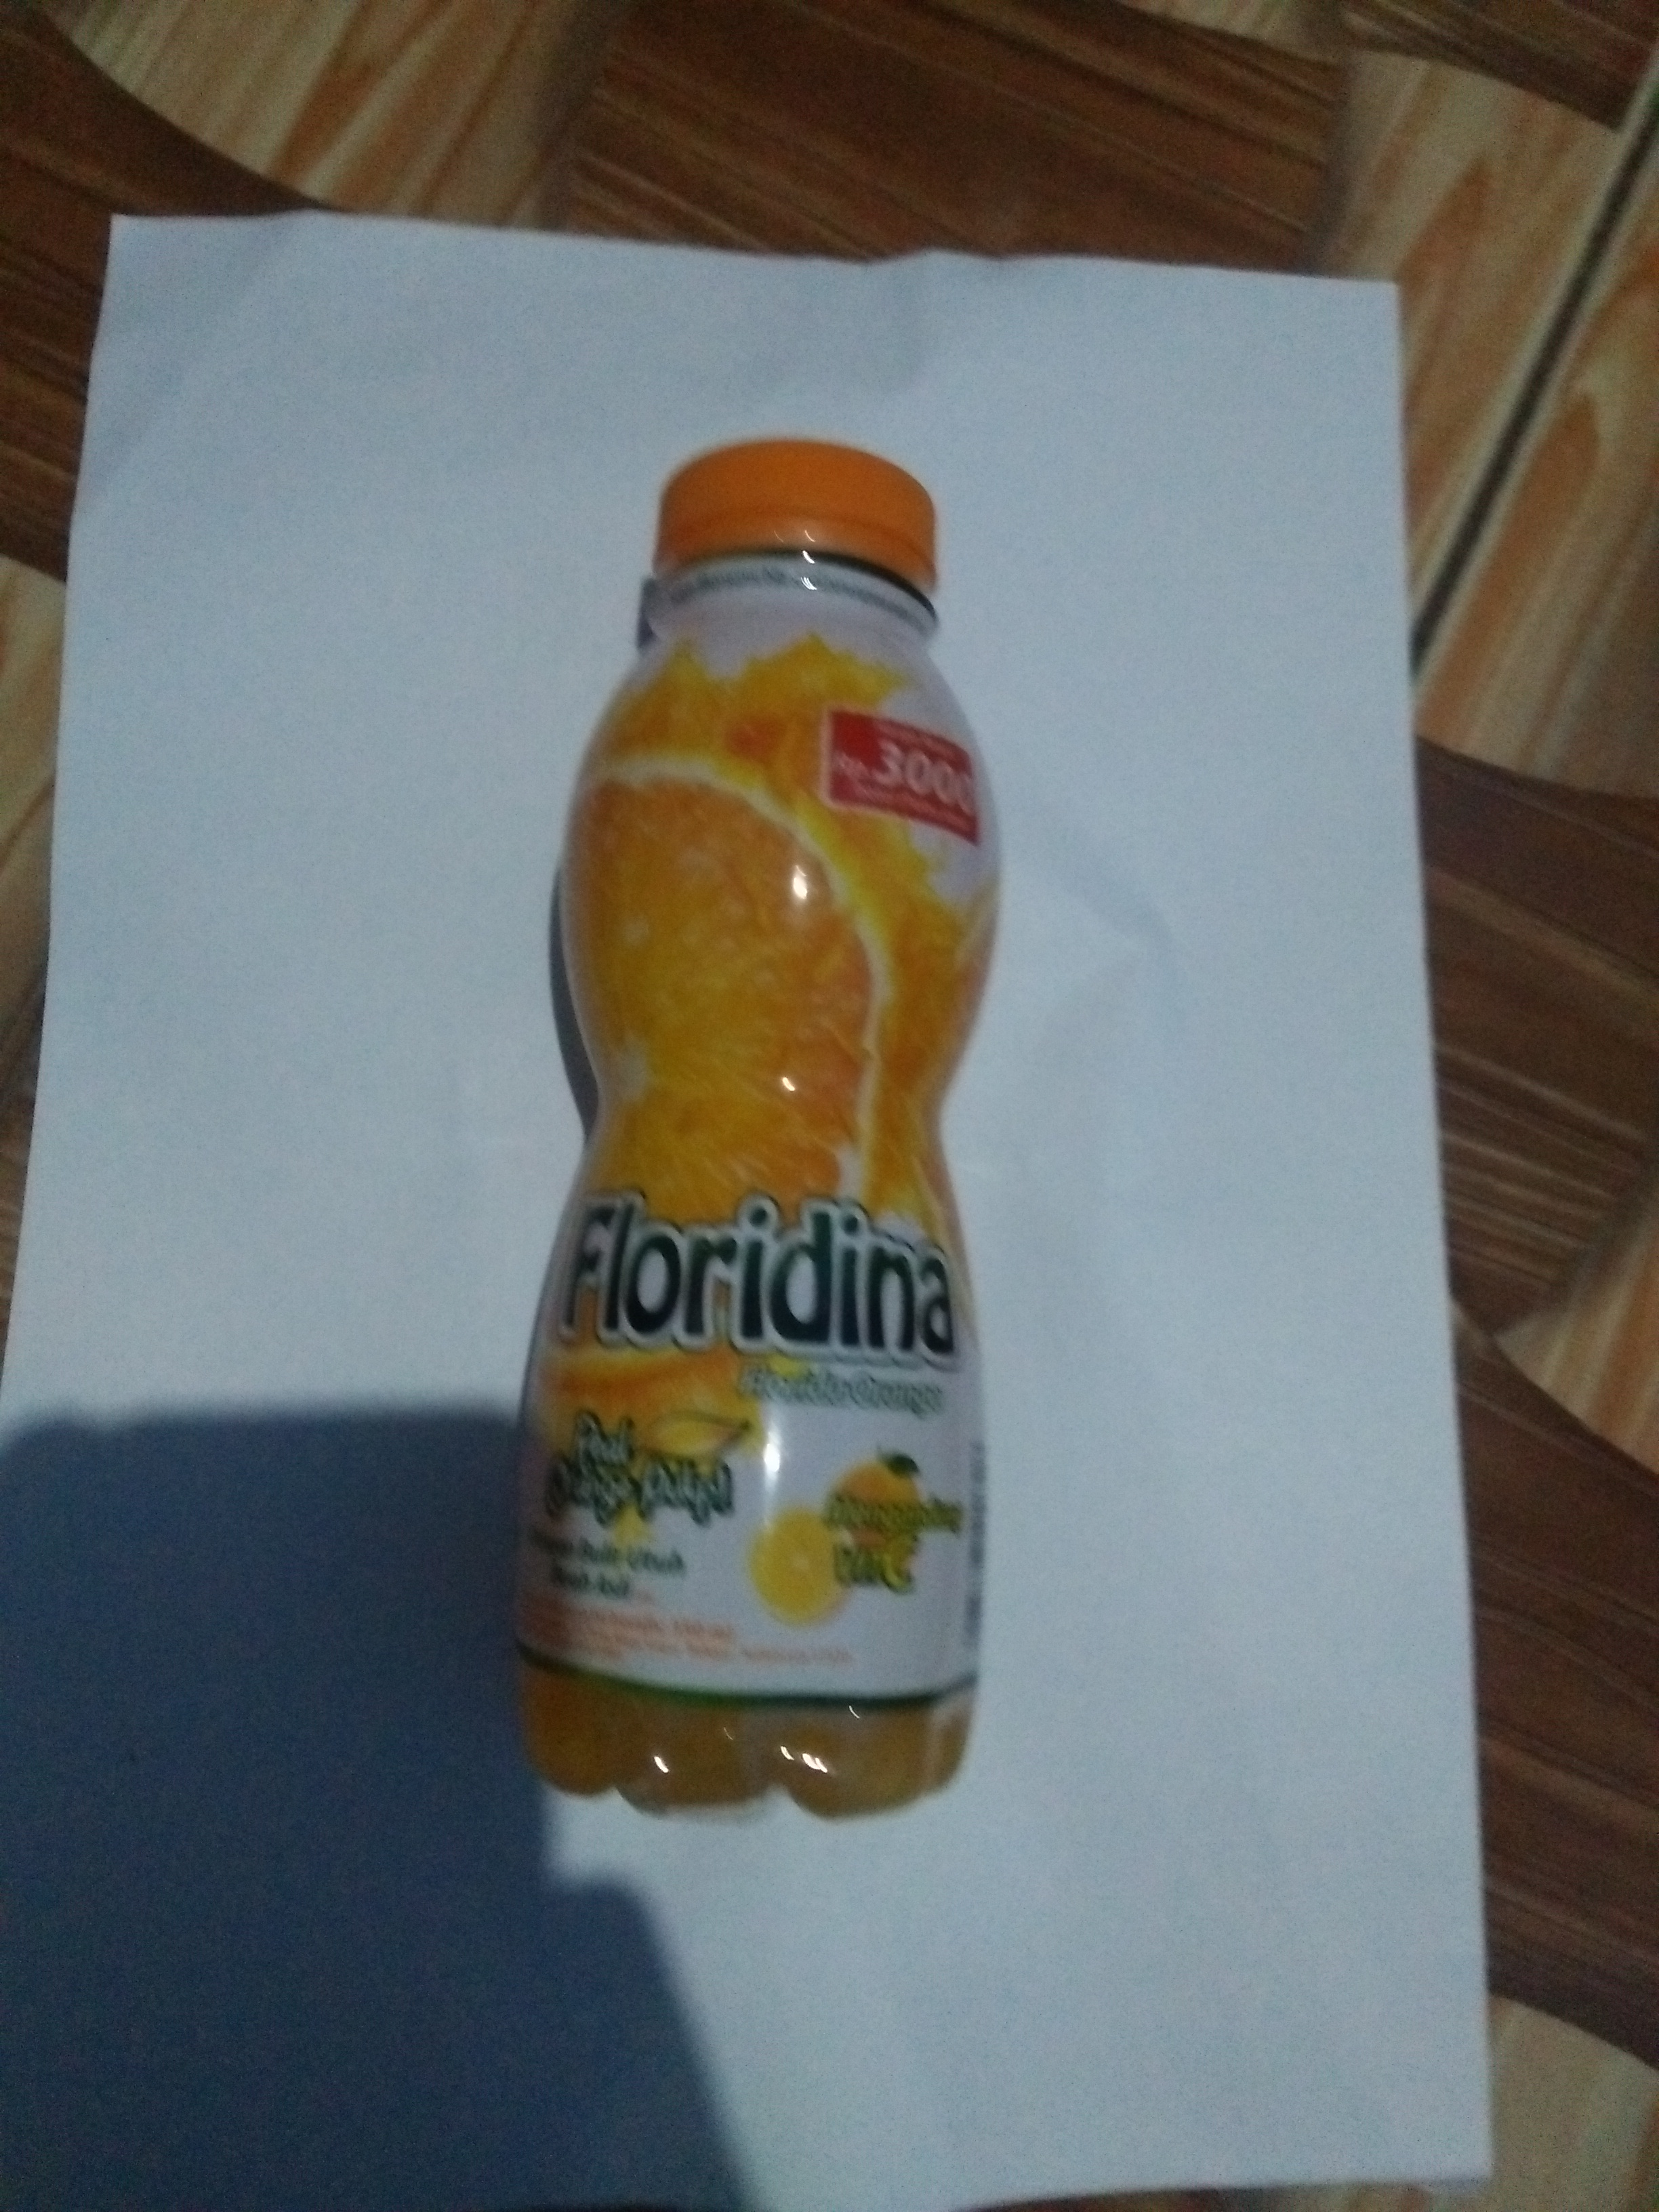Floridina: (484, 428, 1021, 1848)
